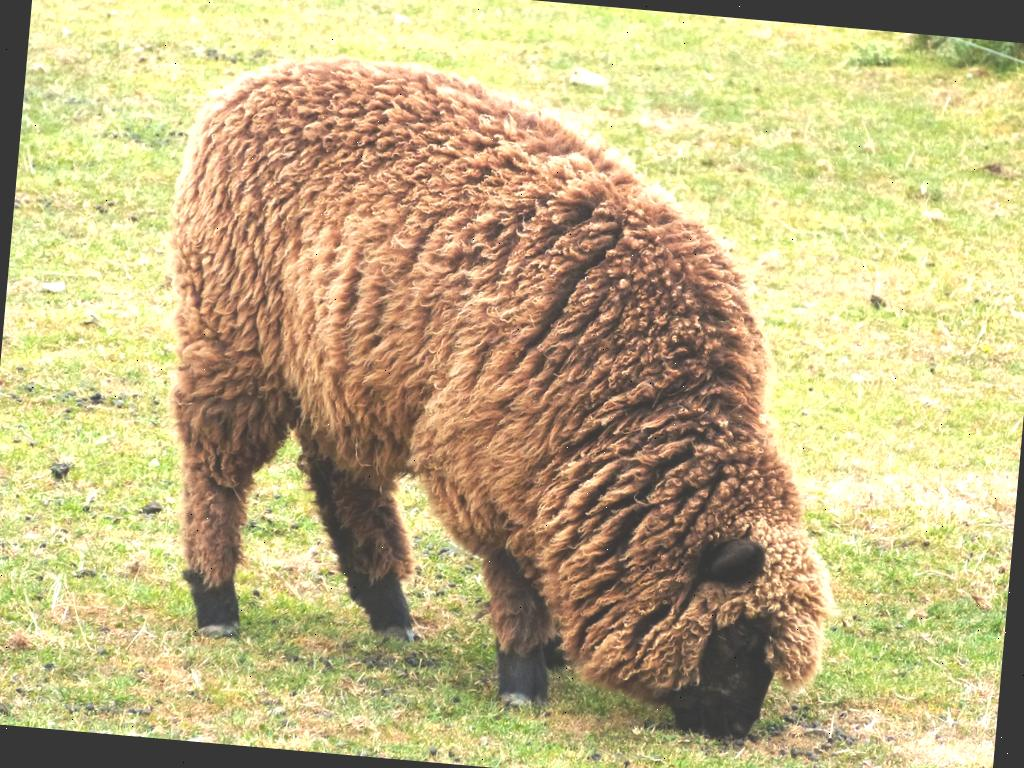Sheep: (114, 40, 885, 754)
